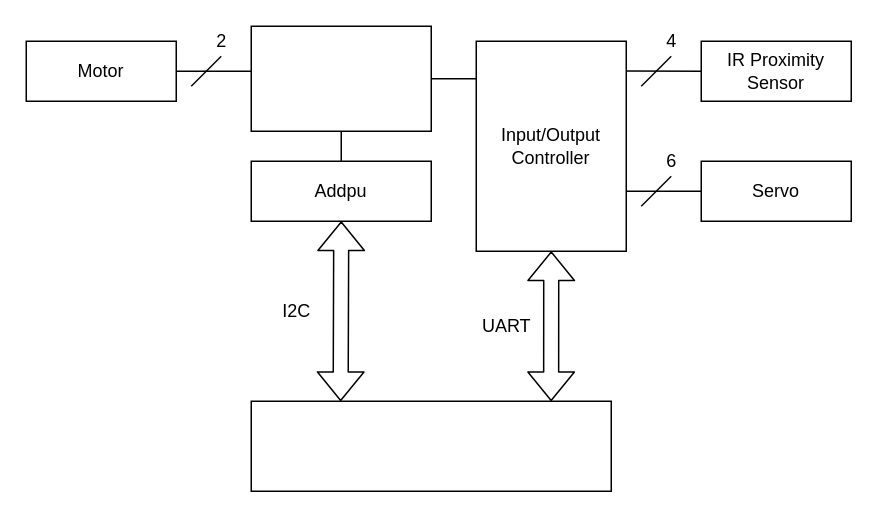
Image size: 878x518. Some labels were removed from this diagram. The box of each missing label's shape, as (x1, y1, x2, y2) in pixels:
Motor Control Block: (250, 25, 431, 131)
Rasbperry Pi: (250, 400, 611, 491)
